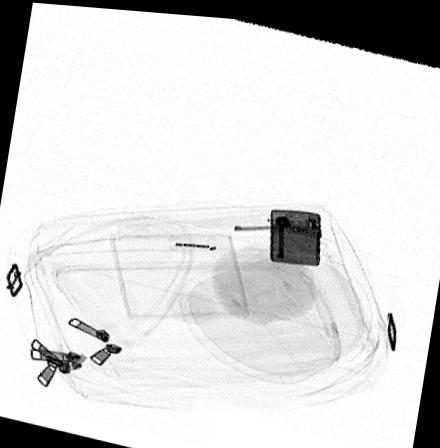Lighter: (270, 205, 322, 261)
